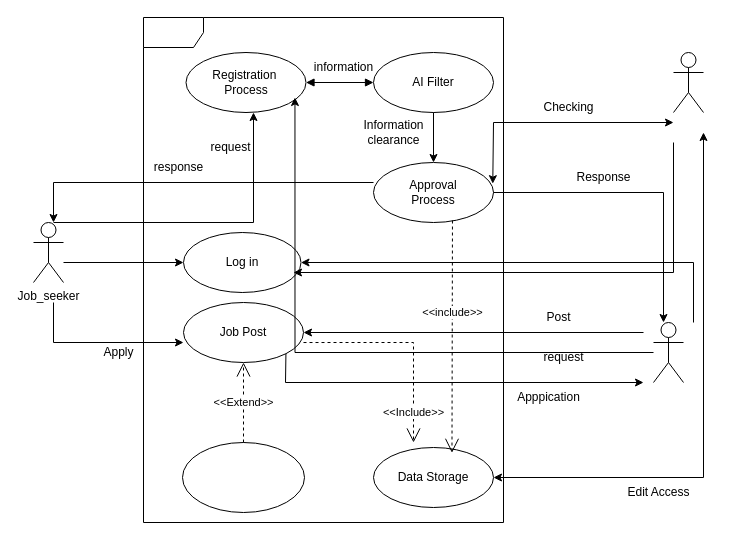
Image size: 730x540. Some labels were removed from this diagram. Each missing label, with the box of its shape:
Admin: (672, 52, 704, 112)
ChatBot: (182, 442, 304, 512)
Employer: (652, 322, 684, 382)
Job link Website: (142, 16, 504, 522)
